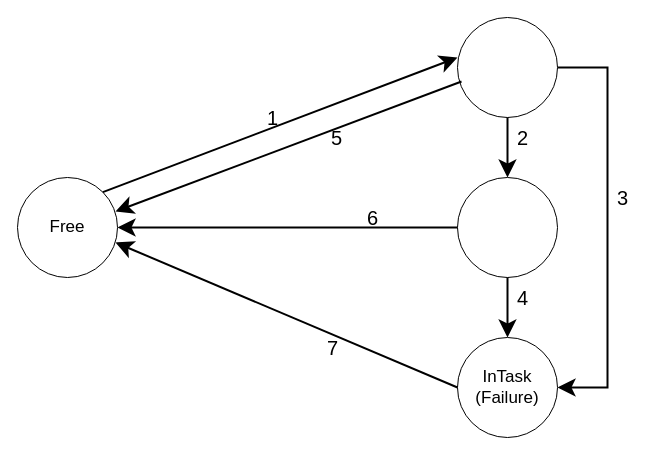
Image size: 655x455. Some labels were removed from this diagram. The box of each missing label's shape, as (x1, y1, x2, y2) in pixels:
InTask (InProgress): (456, 16, 558, 118)
InTask (Success): (456, 176, 558, 278)
